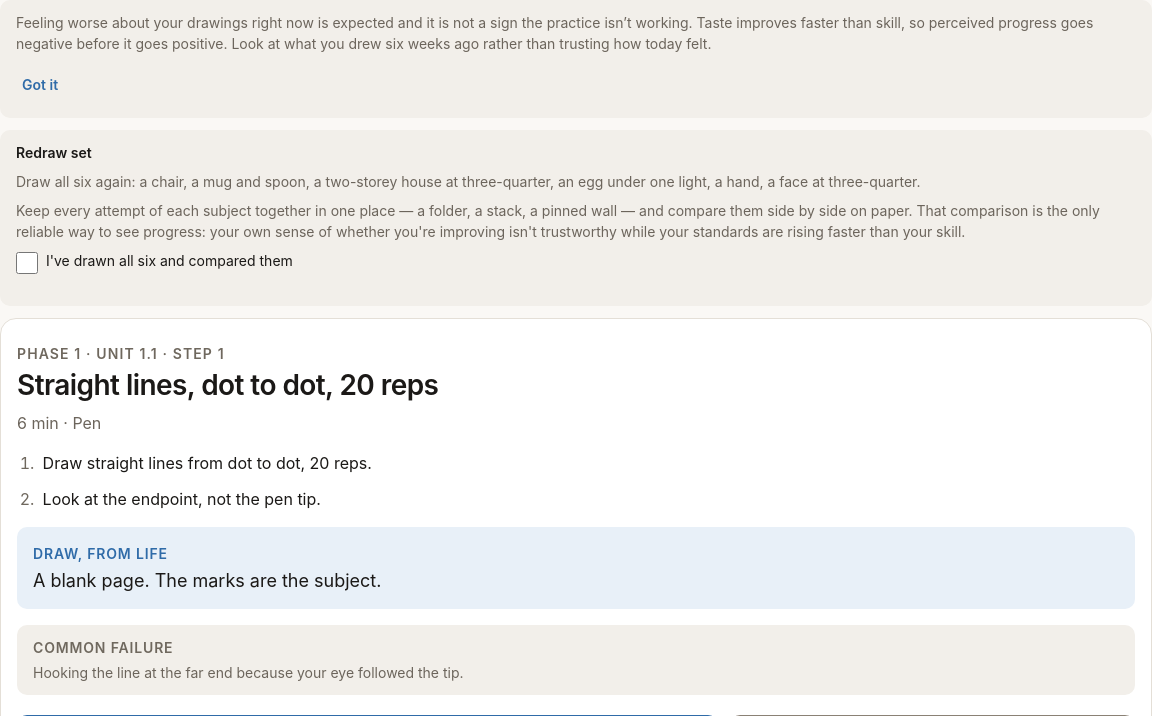
rising-standards cards › dismissing marks that milestone shown so it never reappears
This screenshot has width=1152, height=716.
Click the button "Got it" at (40, 84), box left=16, top=62, right=64, bottom=106
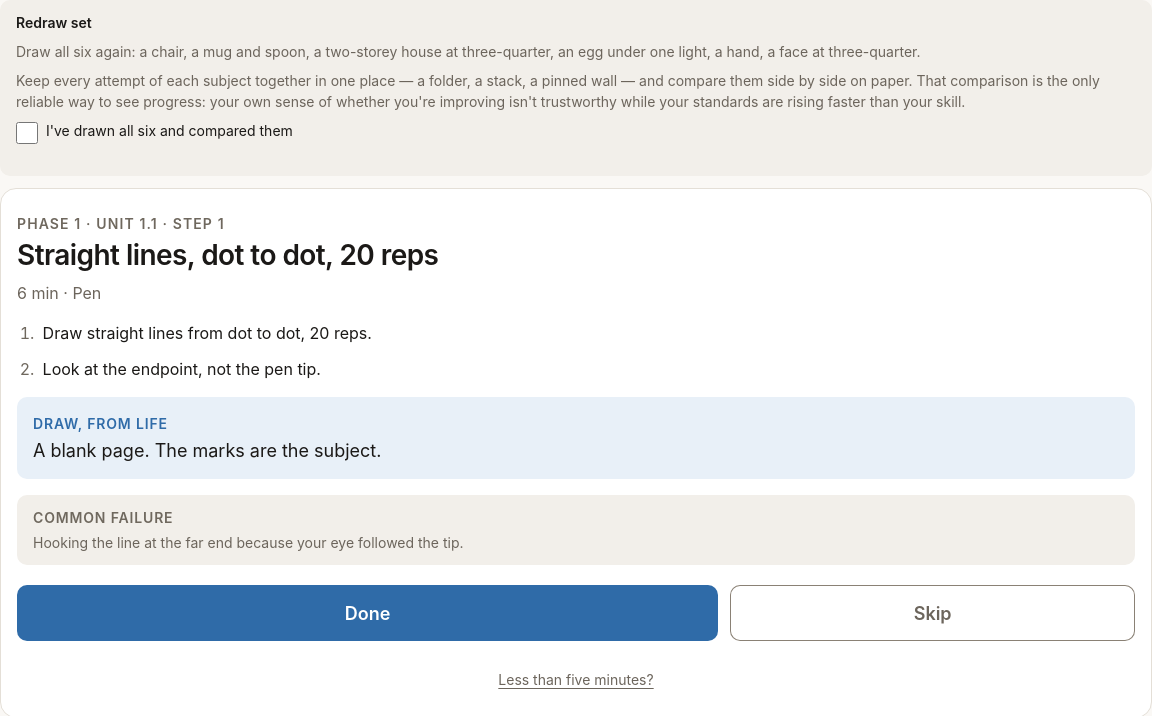
Result: the text "Feeling worse about your drawings" is gone
